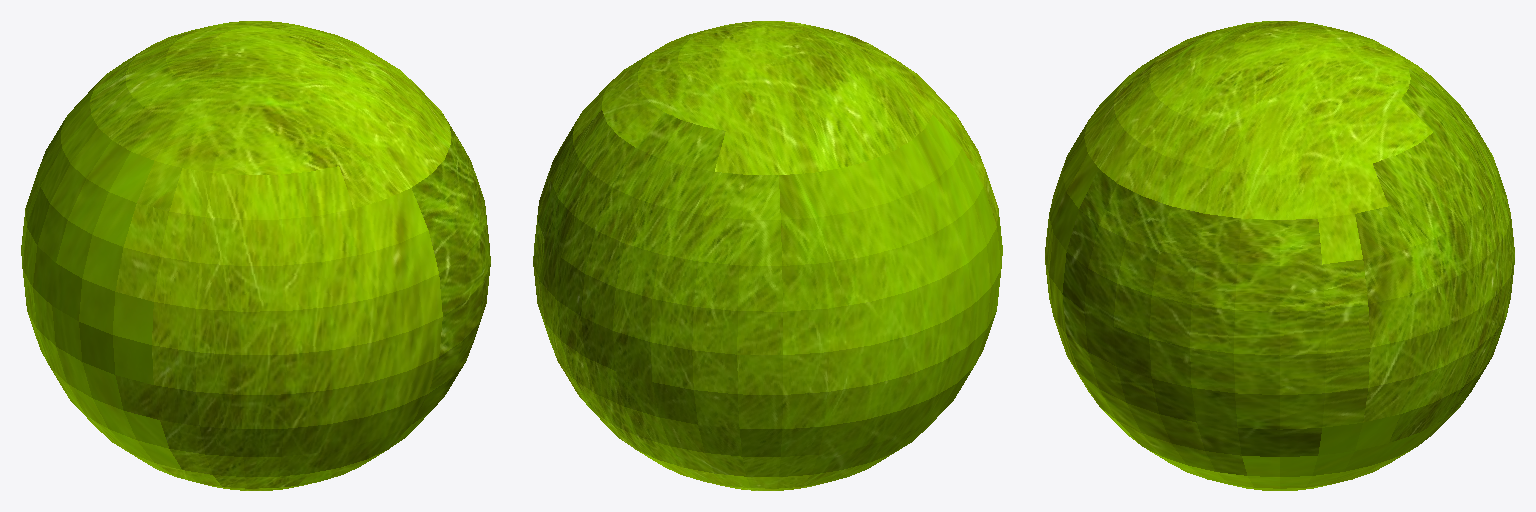
3 views of the same model, side by side, from view 1: azimuth 30°, elevation 25°; view 2: azimuth 150°, elevation 25°; view 3: azimuth 270°, elevation 25° (orthographic).
Visible parts, largest first — view 1: Sphere; view 2: Sphere; view 3: Sphere.
Boxes of the visible parts, x1=… form: Sphere: x1=21, y1=21, x2=490, y2=490; Sphere: x1=533, y1=21, x2=1002, y2=490; Sphere: x1=1045, y1=21, x2=1514, y2=490.
Bounding box in the file's own units: 2 × 2 × 2.
1 materials, 1 textured.